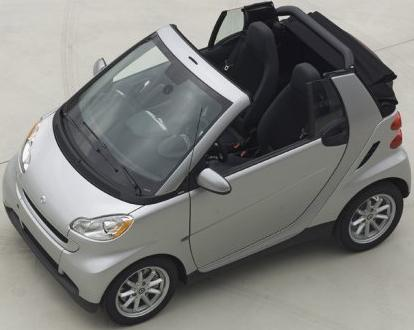front_view: (0, 118, 157, 311)
headlight: (63, 203, 144, 247)
